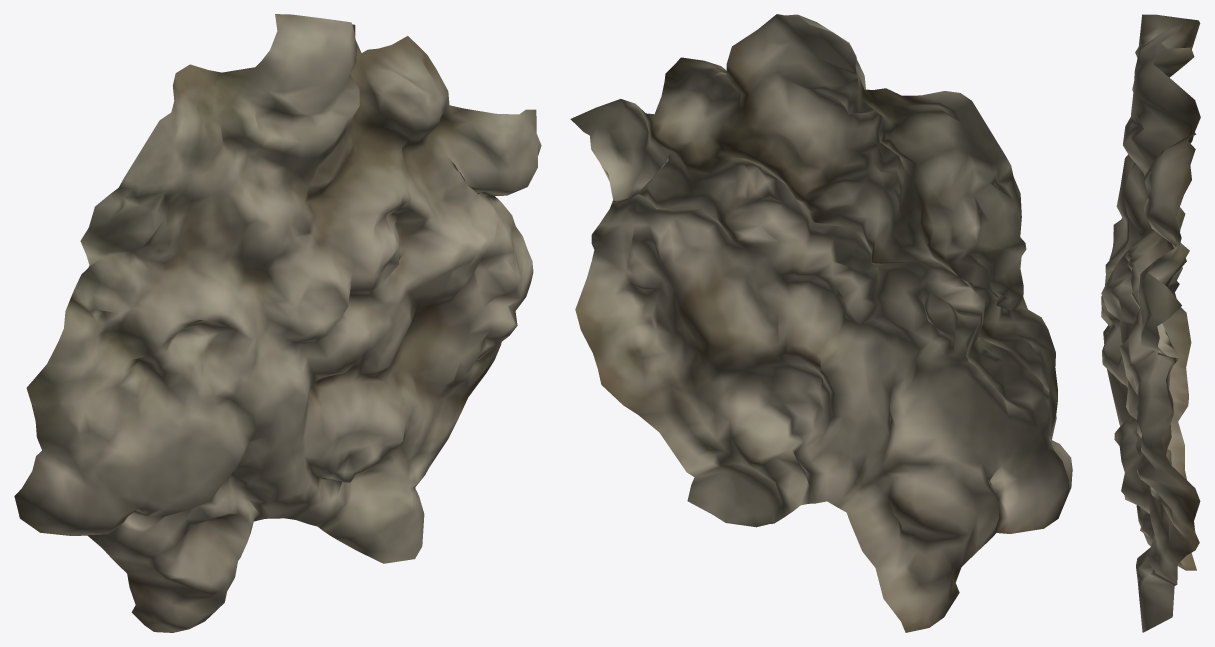
The model's file is Barnacle03.fbx.
3 views of the same model, side by side, from view 1: azimuth 30°, elevation 25°; view 2: azimuth 150°, elevation 25°; view 3: azimuth 270°, elevation 25° (orthographic). The views are drawn at different scales.
Parts seen in each view (by area): view 1: Barnacle03; view 2: Barnacle03; view 3: Barnacle03.
Boxes of the visible parts, x1,y1,x2,y2 form: Barnacle03: [14, 14, 541, 632]; Barnacle03: [570, 14, 1072, 632]; Barnacle03: [1101, 14, 1200, 632].
Bounding box in the file's own units: 59.92 × 66.14 × 10.06.
